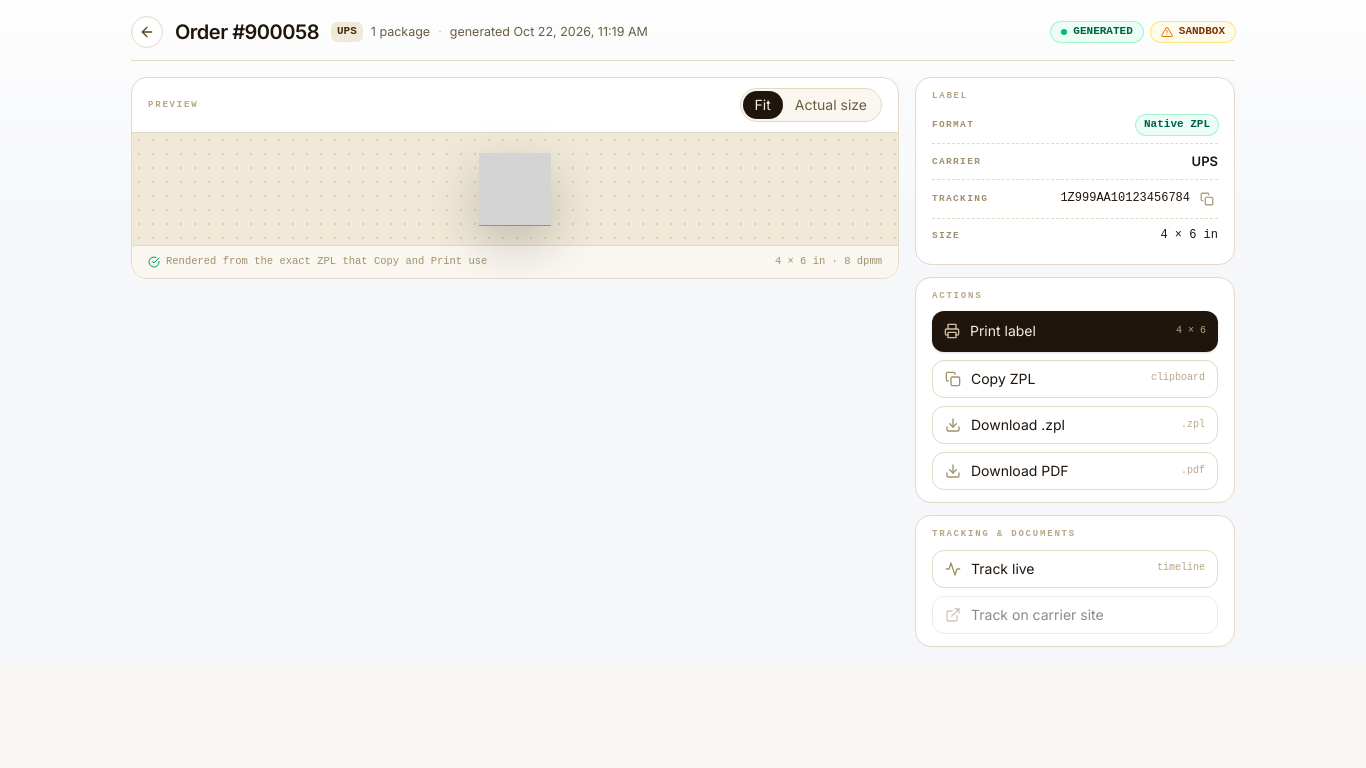
it: ShipmentLabelPage › Copy ZPL: copies the active package ZPL, and when the clipboard is refused exposes it selected instead of only erroring
The width and height of the screenshot is (1366, 768).
Click the button "Copy ZPL clipboard" at [1003, 378], box [932, 360, 1218, 398]
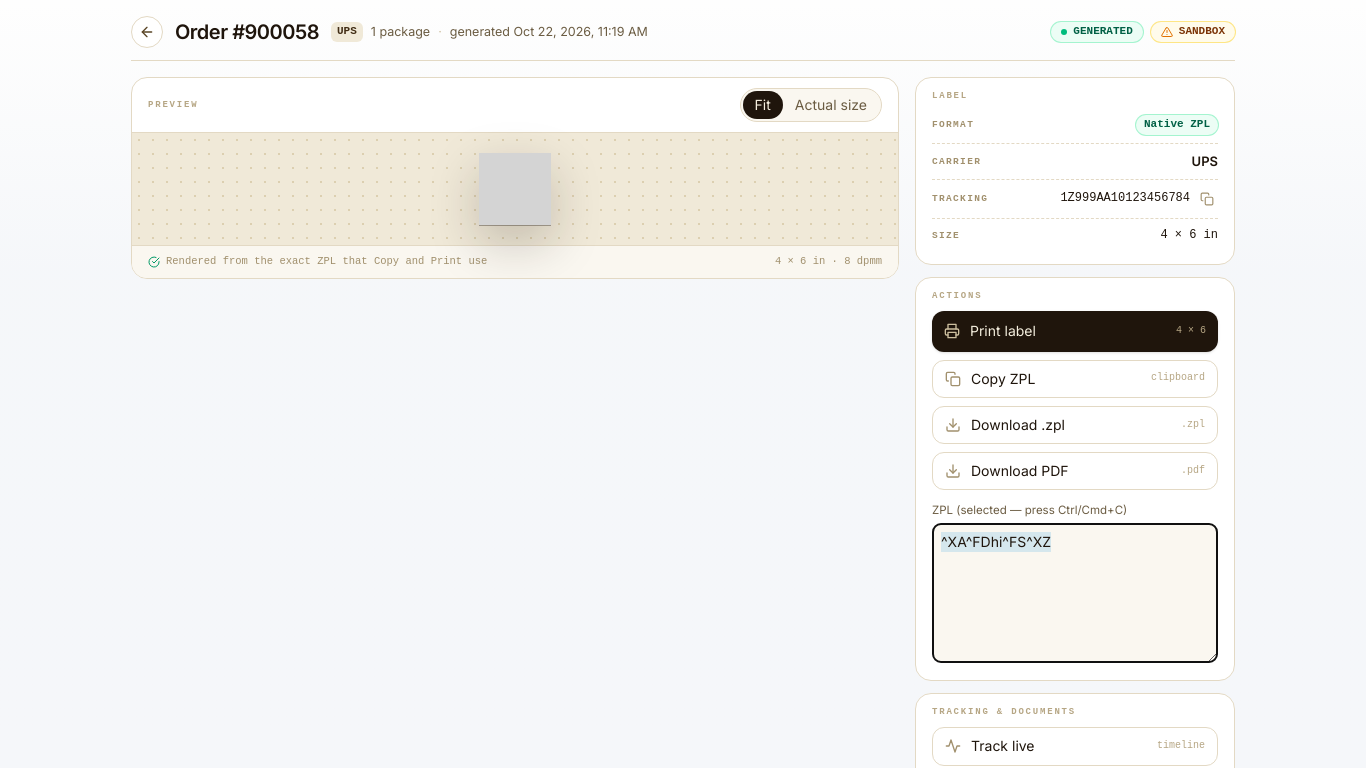
Check: the text box labelled "ZPL (selected — press Ctrl/Cmd+C)" holds "^XA^FDhi^FS^XZ", box [932, 523, 1218, 663]
Click the button "Copy ZPL clipboard" at [1003, 378], box [932, 360, 1218, 398]
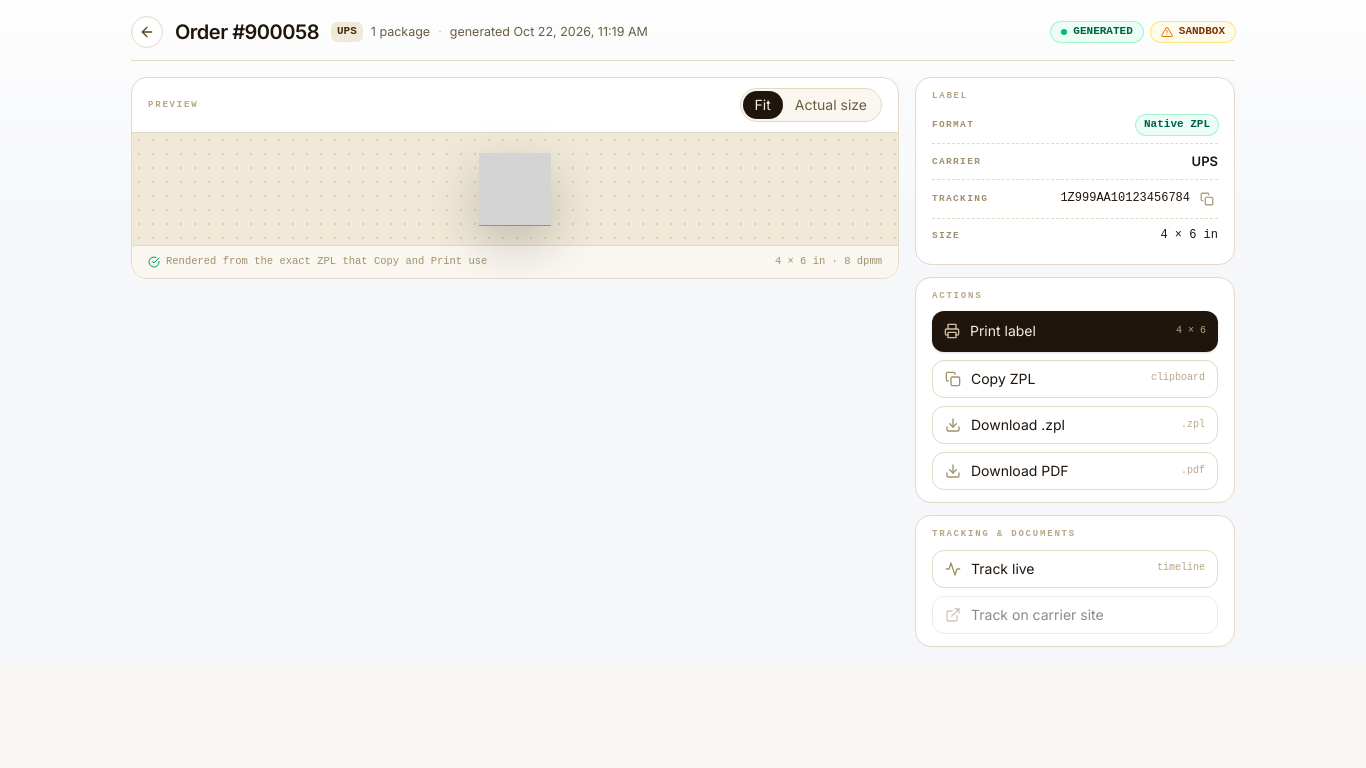
Check: the label labelled "ZPL (selected" is gone
